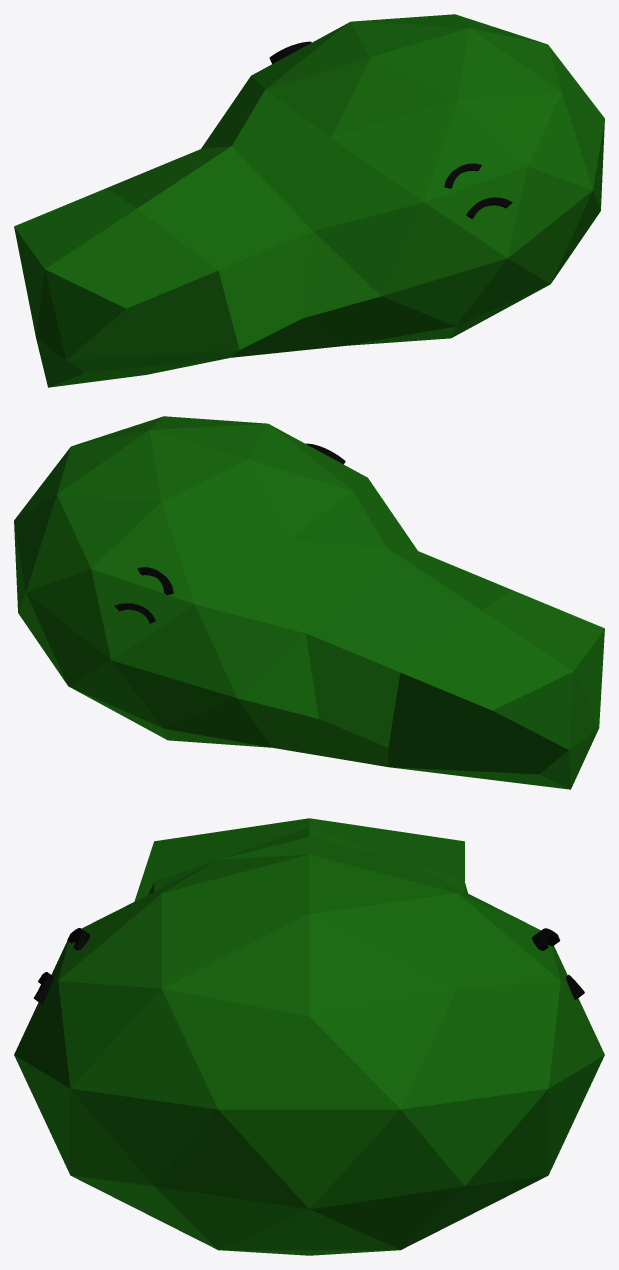
Rendered from TurtleHeadBlink.fbx.
The picture shows the model from 3 angles, top to bottom: view 1: azimuth 30°, elevation 25°; view 2: azimuth 150°, elevation 25°; view 3: azimuth 270°, elevation 25°; orthographic projection. The views are drawn at different scales.
Visible parts, largest first — view 1: Head, Cylinder.001; view 2: Head, Cylinder.001; view 3: Head, Cylinder.001.
Part boxes in pixels (x1,y1,x2,y2): Head: (14,14,604,387); Cylinder.001: (269,41,512,218); Head: (14,416,604,789); Cylinder.001: (114,443,345,623); Head: (14,818,604,1255); Cylinder.001: (33,928,584,1004).
Size of the model in its own units: 286 by 140 by 200.
